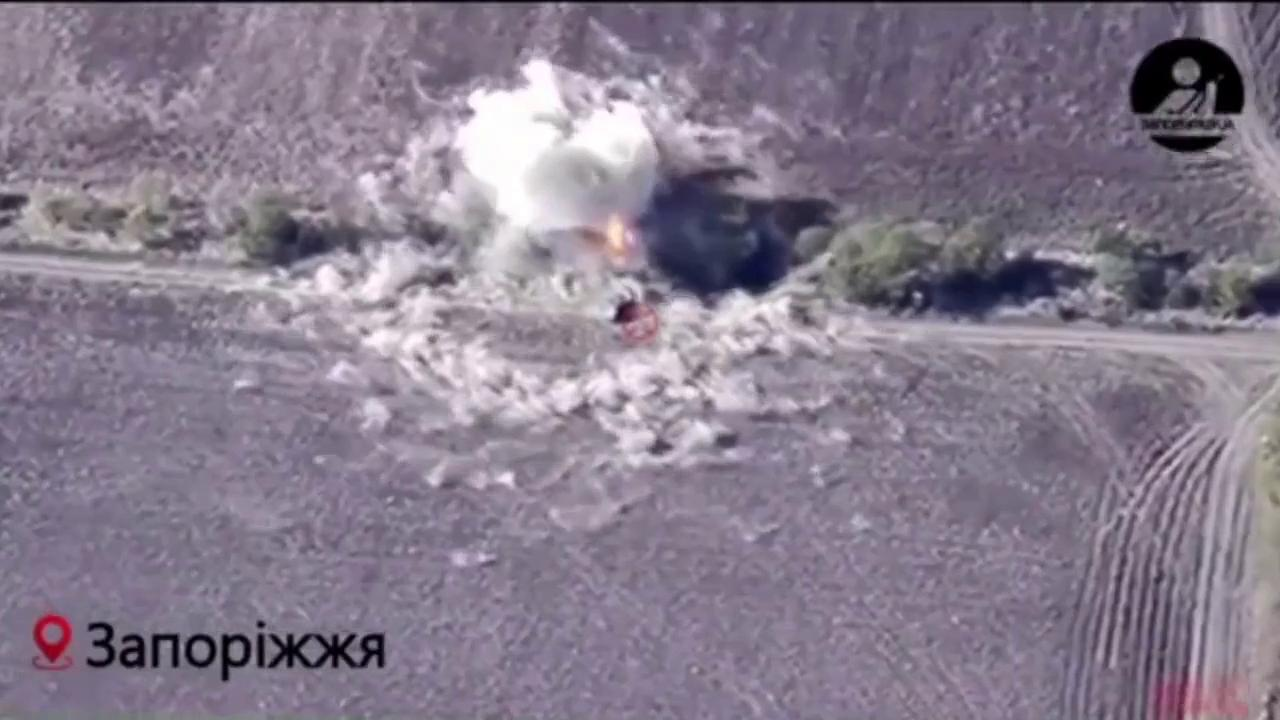tank: (597, 281, 661, 338)
